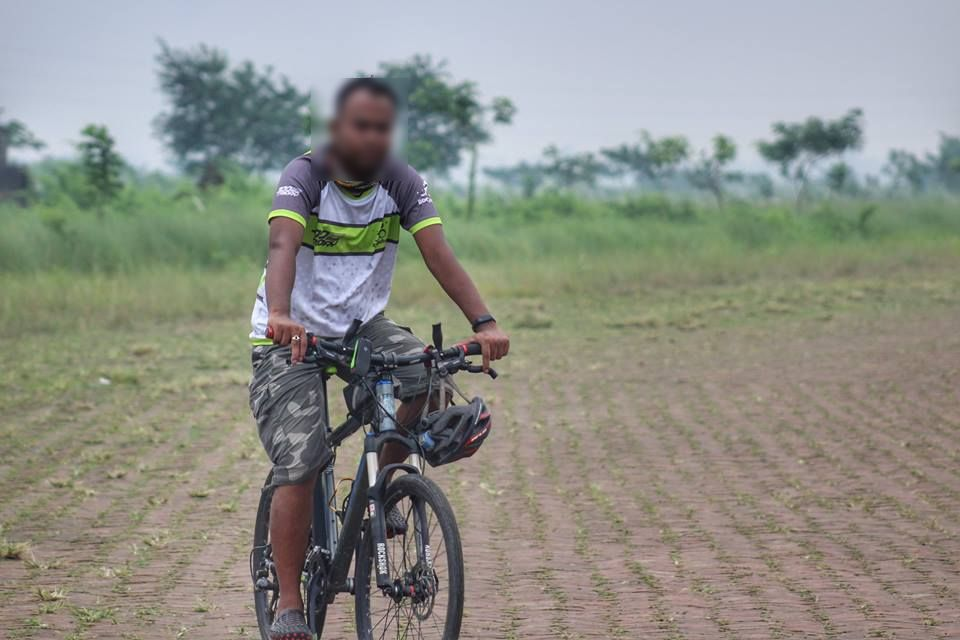bicycle: (197, 310, 544, 639)
